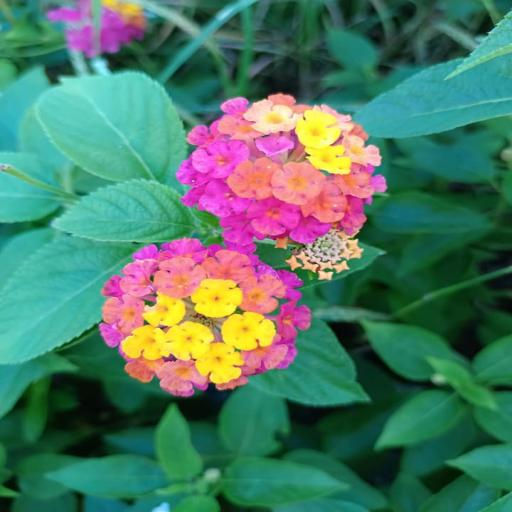Lantana: (90, 236, 327, 401), (167, 89, 394, 254)
